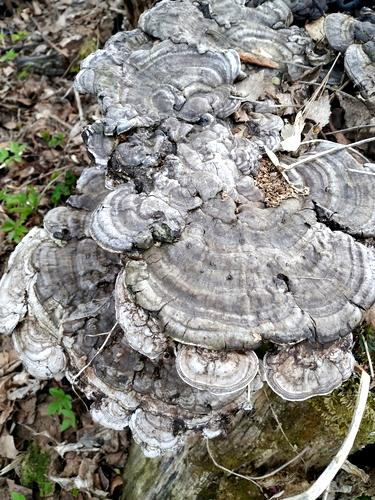Ganoderma - Fruit Body: (0, 0, 375, 457)
